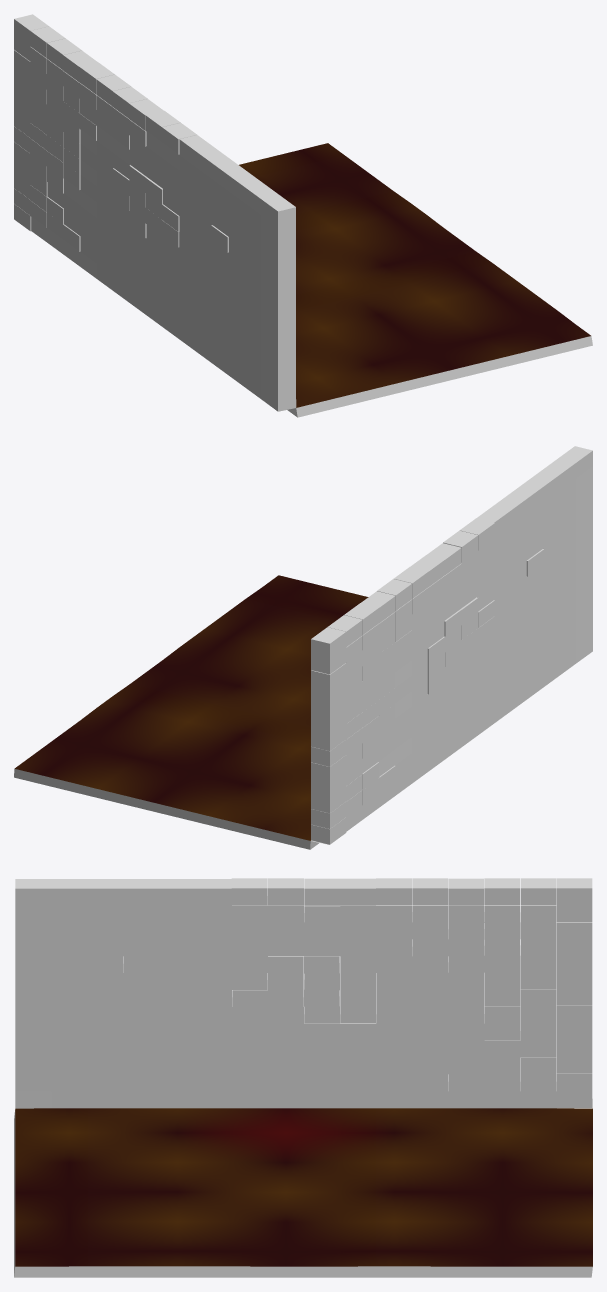
Rendered from girl Room Update Jan 2026 Wall_floor.fbx.
The picture shows the model from 3 angles, top to bottom: view 1: azimuth 30°, elevation 25°; view 2: azimuth 150°, elevation 25°; view 3: azimuth 270°, elevation 25°; orthographic projection. The views are drawn at different scales.
Parts seen in each view (by area): view 1: Cube.015, Cube.056, Cube.060, Cube.059, Cube.053, Cube.055, Cube.061, Cube.057, Cube.088, Cube.058, Cube.054; view 2: Cube.015, Cube.088, Cube.061, Cube.056, Cube.057, Cube.060, Cube.053, Cube.059, Cube.075, Cube.054, Cube.058, Cube.081 (+11 smaller); view 3: Cube.015, Cube.054, Cube.059, Cube.060, Cube.053, Cube.055, Cube.056, Cube.057, Cube.058, Cube.061, Cube.088, Cube.032 (+61 smaller).
Boxes of the visible parts, box(x1,y1,x2,y2) form: Cube.015: box(31, 126, 592, 417); Cube.056: box(79, 62, 114, 93); Cube.060: box(162, 123, 196, 154); Cube.059: box(30, 26, 65, 58); Cube.053: box(96, 74, 131, 106); Cube.055: box(112, 87, 147, 118); Cube.061: box(145, 110, 180, 142); Cube.057: box(47, 38, 81, 69); Cube.088: box(14, 14, 48, 45); Cube.058: box(63, 50, 97, 82); Cube.054: box(129, 99, 163, 130); Cube.015: box(14, 446, 592, 849); Cube.088: box(311, 627, 346, 658); Cube.061: box(443, 530, 478, 562); Cube.056: box(377, 579, 412, 610); Cube.057: box(344, 603, 379, 634); Cube.060: box(460, 518, 494, 550); Cube.053: box(394, 567, 428, 598); Cube.059: box(327, 615, 362, 646); Cube.075: box(311, 817, 346, 844); Cube.054: box(427, 543, 461, 574); Cube.058: box(361, 591, 395, 622); Cube.081: box(311, 739, 346, 766); Cube.015: box(14, 879, 592, 1277); Cube.054: box(304, 878, 340, 905); Cube.059: box(520, 878, 556, 905); Cube.060: box(231, 878, 267, 905); Cube.053: box(376, 878, 411, 905); Cube.055: box(340, 878, 375, 905); Cube.056: box(412, 878, 447, 905); Cube.057: box(484, 878, 519, 905); Cube.058: box(448, 878, 483, 905); Cube.061: box(268, 878, 303, 905); Cube.088: box(556, 878, 592, 905); Cube.032: box(448, 962, 484, 989).
Size of the model in its own units: 499 by 318 by 724.
